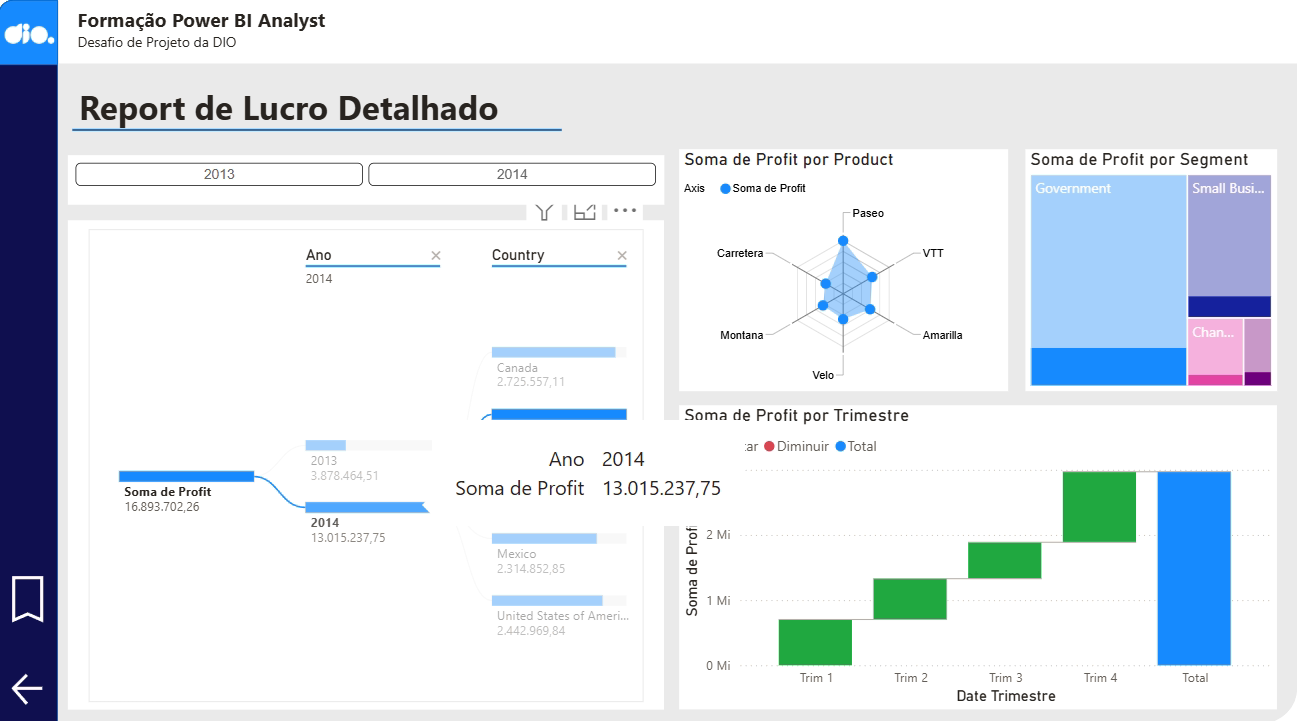

This screenshot's page, from the dashboard's own definition file:
{"tool":"powerbi","page":{"name":"Página 2","canvas":[1280,720],"ordinal":1},"visuals":[{"type":"shape","box":[42.6,20.7,1225.3,699.3],"z":0},{"type":"shape","box":[83.9,127.8,473,37.1],"z":0,"group":"g1"},{"type":"textbox","box":[85.3,97.6,470.2,52.2],"z":1000,"group":"g1"},{"type":"shape","box":[12.4,20.2,57.7,699.8],"z":1000},{"type":"shape","box":[12.4,20.6,57.7,63.2],"z":2000},{"type":"image","box":[13.7,33,57.7,39.9],"z":3000},{"type":"shape","title":"Fundo do Título","box":[71.5,20.6,1198.9,61.9],"z":4000},{"type":"textbox","title":"Título do report","box":[83.9,22,378.1,63.2],"z":5000},{"type":"shape","box":[79.7,233.7,576.1,473],"z":6000},{"type":"decompositionTreeVisual","fields":{"Analyze":["Sum(financials.Profit)"],"ExplainBy":["financials.Date.Variation.Hierarquia de datas.Ano","financials.Country"]},"box":[99.8,242.2,536.3,456.5],"z":7000},{"type":"waterfallChart","fields":{"Category":["financials.Date.Variation.Hierarquia de datas.Trimestre"],"Y":["Sum(financials.Profit)"]},"box":[670.9,412.5,577.4,294.2],"z":8000},{"type":"ChicletSlicer1448559807354","fields":{"Category":["financials.Date.Variation.Hierarquia de datas.Ano"]},"box":[79.7,170.5,576.1,48.1],"z":9000},{"type":"RadarChart1446119667547","fields":{"Category":["financials.Product"],"Y":["Sum(financials.Profit)"]},"box":[670.9,165,317.6,233.7],"z":10000},{"type":"treemap","fields":{"Values":["Sum(financials.Profit)"],"Group":["financials.Segment"]},"box":[1005,165,243.4,233.7],"z":11000},{"type":"actionButton","box":[22,666.8,48.1,39.9],"z":12000},{"type":"group","id":"g1","title":"Sales report","box":[83.9,97.6,473,67.4],"z":13000},{"type":"actionButton","box":[12.8,545.8,57,105.5],"z":14000}]}

Visuals, with their boxes on the page's 1280x720 design canvas (x1, y1, x2, y2). These are canvas units, not pixel positions in the 1298x721 screenshot, which may show the page scaled, cropped or inside an application window:
shape: 43/21/1268/720
shape: 84/128/557/165
textbox: 85/98/556/150
shape: 12/20/70/720
shape: 12/21/70/84
image: 14/33/71/73
"Fundo do Título" shape: 72/21/1270/82
"Título do report" textbox: 84/22/462/85
shape: 80/234/656/707
decompositionTreeVisual - Sum(financials.Profit) x financials.Date.Variation.Hierarquia de datas.Ano: 100/242/636/699
waterfallChart - financials.Date.Variation.Hierarquia de datas.Trimestre x Sum(financials.Profit): 671/412/1248/707
ChicletSlicer1448559807354 - financials.Date.Variation.Hierarquia de datas.Ano: 80/170/656/219
RadarChart1446119667547 - financials.Product x Sum(financials.Profit): 671/165/988/399
treemap - Sum(financials.Profit) x financials.Segment: 1005/165/1248/399
actionButton: 22/667/70/707
"Sales report" group: 84/98/557/165
actionButton: 13/546/70/651
